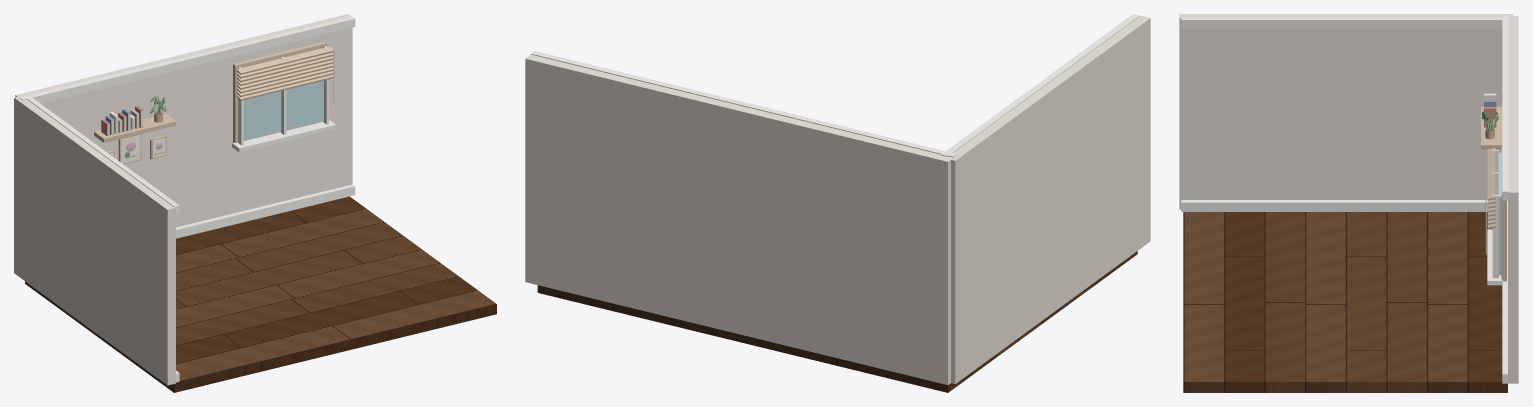
Rendered from Room_Shell.glb.
3 views of the same model, side by side, from view 1: azimuth 30°, elevation 25°; view 2: azimuth 150°, elevation 25°; view 3: azimuth 270°, elevation 25° (orthographic). The views are drawn at different scales.
Visible parts, largest first — view 1: parquet_floor_1, left_wall_3, back_wall_2, back_moulding_6, window_daylight_9, back_moulding_4, window_frame_8, window_sill_13, side_moulding_7, floating_shelf_23, blind_slat_14, blind_slat_16 (+6 smaller); view 2: back_wall_2, left_wall_3, parquet_floor_1, back_moulding_6, side_moulding_7; view 3: parquet_floor_1, left_wall_3, side_moulding_7, back_wall_2, side_moulding_5, back_moulding_6, back_moulding_4, window_frame_8, floating_shelf_23, window_mullion_12, blind_slat_14, window_sill_13 (+1 smaller).
Boxes of the visible parts, x1=… form: parquet_floor_1: x1=25, y1=196, x2=496, y2=392; left_wall_3: x1=14, y1=95, x2=175, y2=385; back_wall_2: x1=15, y1=14, x2=352, y2=227; back_moulding_6: x1=20, y1=16, x2=355, y2=103; window_daylight_9: x1=242, y1=48, x2=323, y2=139; back_moulding_4: x1=176, y1=184, x2=355, y2=238; window_frame_8: x1=233, y1=41, x2=326, y2=142; window_sill_13: x1=232, y1=120, x2=335, y2=152; side_moulding_7: x1=24, y1=95, x2=179, y2=214; floating_shelf_23: x1=94, y1=114, x2=176, y2=142; blind_slat_14: x1=237, y1=46, x2=334, y2=74; blind_slat_16: x1=237, y1=56, x2=334, y2=82; back_wall_2: x1=525, y1=54, x2=953, y2=384; left_wall_3: x1=946, y1=15, x2=1150, y2=384; parquet_floor_1: x1=537, y1=251, x2=1137, y2=392; back_moulding_6: x1=531, y1=51, x2=957, y2=157; side_moulding_7: x1=941, y1=14, x2=1139, y2=156; parquet_floor_1: x1=1183, y1=212, x2=1507, y2=392; left_wall_3: x1=1179, y1=14, x2=1513, y2=209; side_moulding_7: x1=1181, y1=17, x2=1509, y2=28; back_wall_2: x1=1508, y1=16, x2=1518, y2=383; side_moulding_5: x1=1181, y1=200, x2=1487, y2=211; back_moulding_6: x1=1502, y1=15, x2=1508, y2=200; back_moulding_4: x1=1502, y1=200, x2=1508, y2=383; window_frame_8: x1=1501, y1=146, x2=1506, y2=281; floating_shelf_23: x1=1481, y1=106, x2=1502, y2=149; window_mullion_12: x1=1492, y1=194, x2=1498, y2=278; blind_slat_14: x1=1487, y1=148, x2=1495, y2=200; window_sill_13: x1=1487, y1=229, x2=1502, y2=285.
Size of the model in its own units: 5.21 by 2.77 by 4.18.
15 materials, 1 textured.
